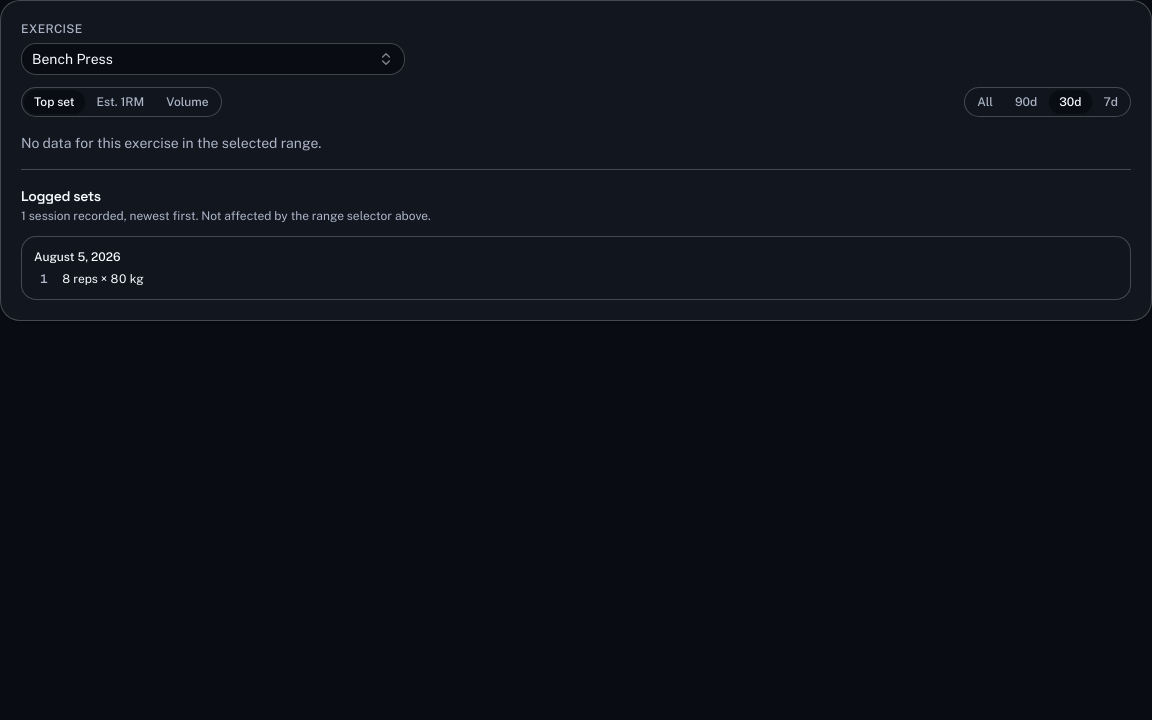
Test case: ExerciseProgressClient — the metric › shows the empty state when every session lacks the metric
Check: the text "No data for this exercise in the selected range." is shown, box 21,135 -> 322,151
Click the tab "Volume".
click(188, 102)  # box 156,90 -> 219,114
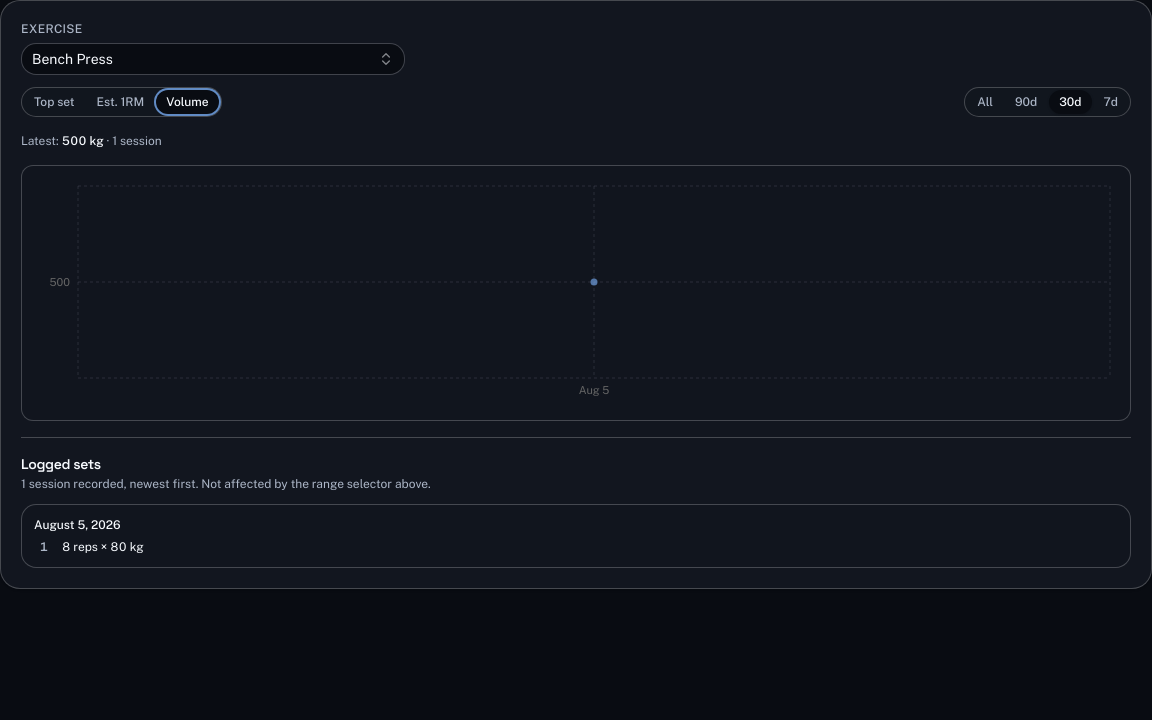
Check: the text "500 kg" is shown, box 62,134 -> 104,148
